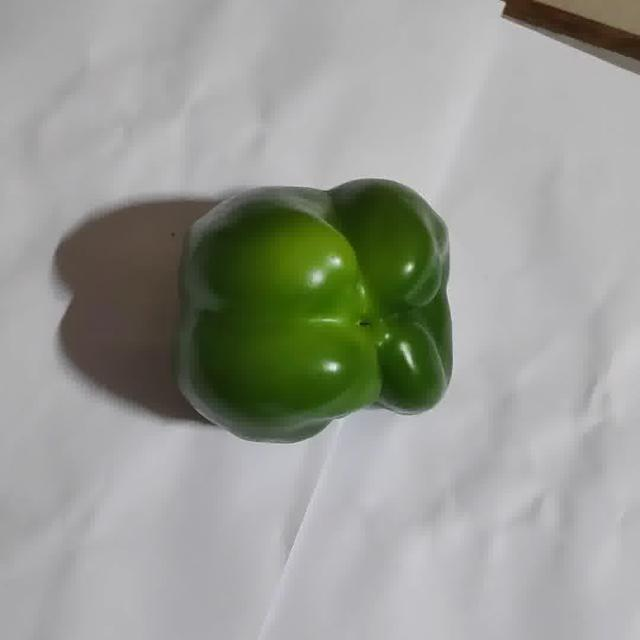Bell Pepper: (177, 180, 452, 443)
